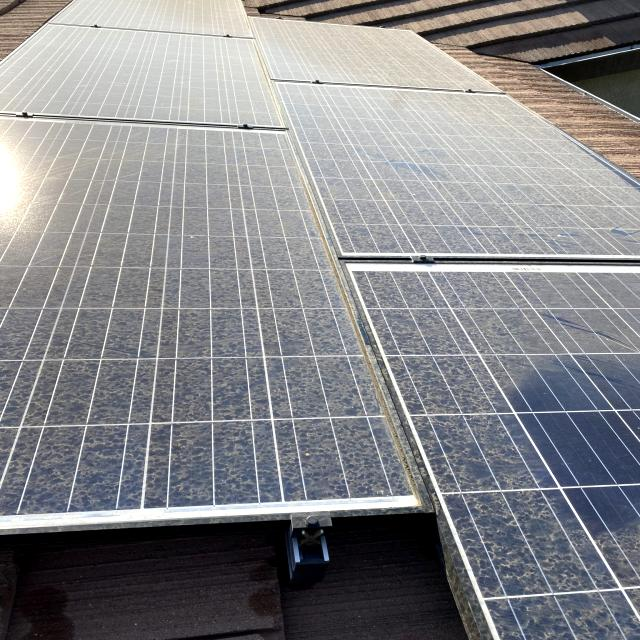dust: (0, 234, 169, 364), (519, 283, 640, 429), (202, 232, 326, 370), (202, 384, 387, 474), (8, 385, 148, 503), (454, 458, 562, 602), (392, 276, 500, 419), (42, 40, 230, 112), (348, 170, 512, 240), (17, 157, 177, 226), (302, 90, 433, 170), (274, 26, 428, 84), (212, 169, 306, 226), (588, 539, 640, 633), (474, 114, 544, 170)
